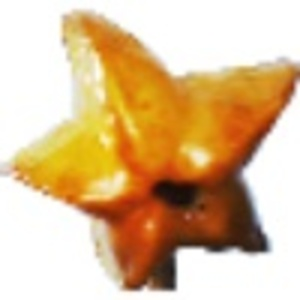carambola: (1, 8, 300, 296)
